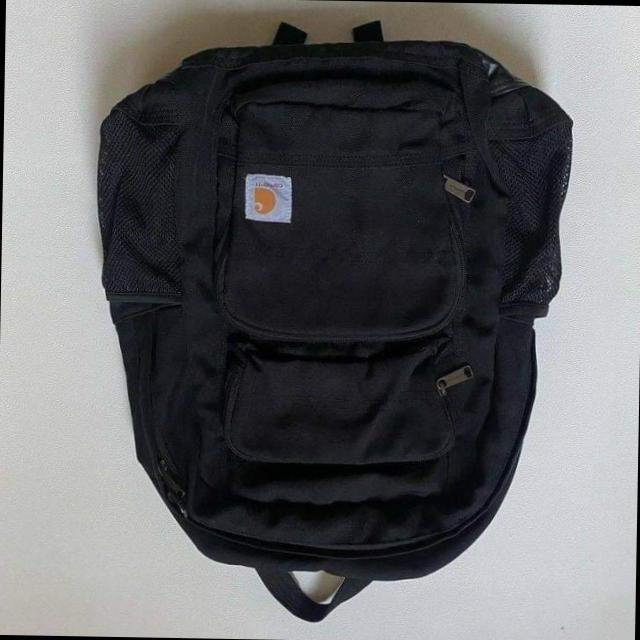bag: (97, 37, 573, 610)
